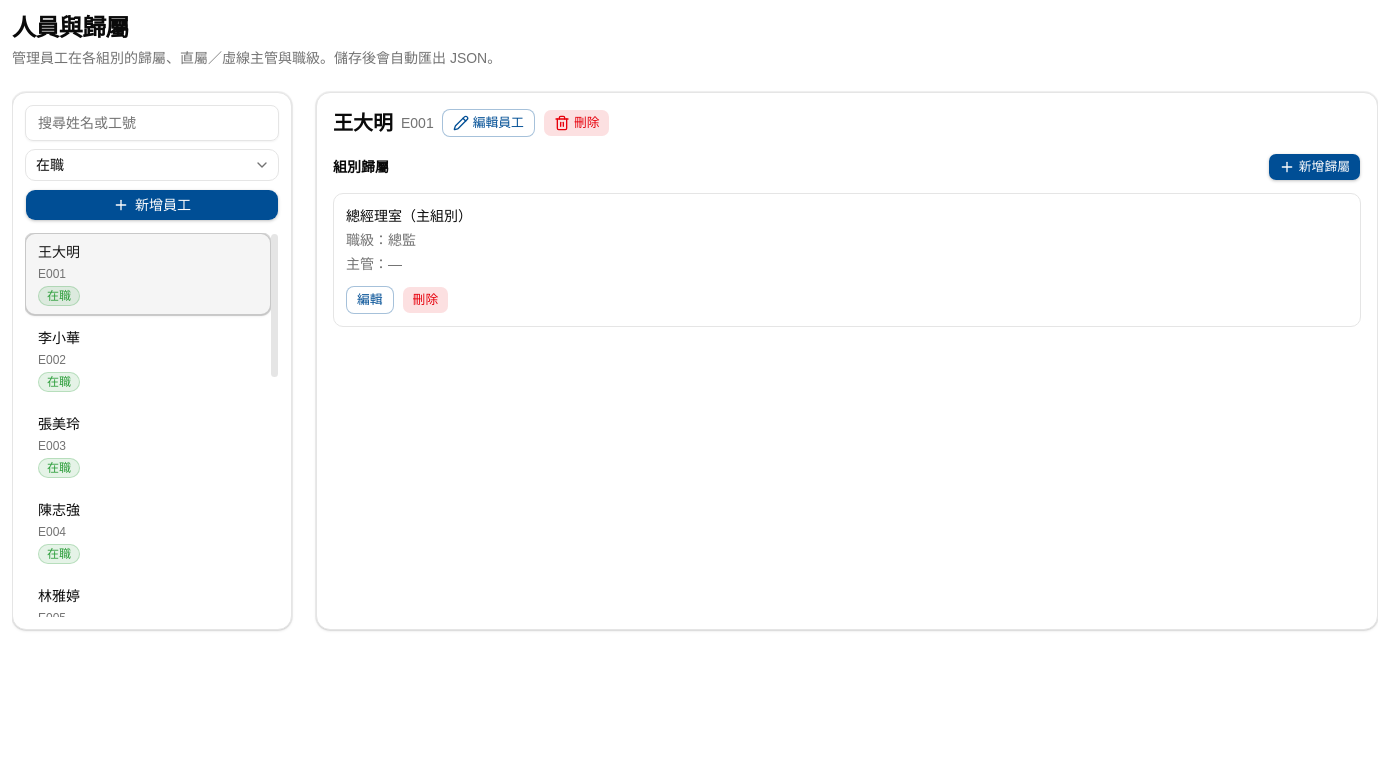
Test: PeoplePage 人員與歸屬 › 點擊「新增歸屬」會出現歸屬編輯卡片與儲存鈕
Click the button "新增歸屬" at (1314, 167), box [1268, 153, 1361, 181]
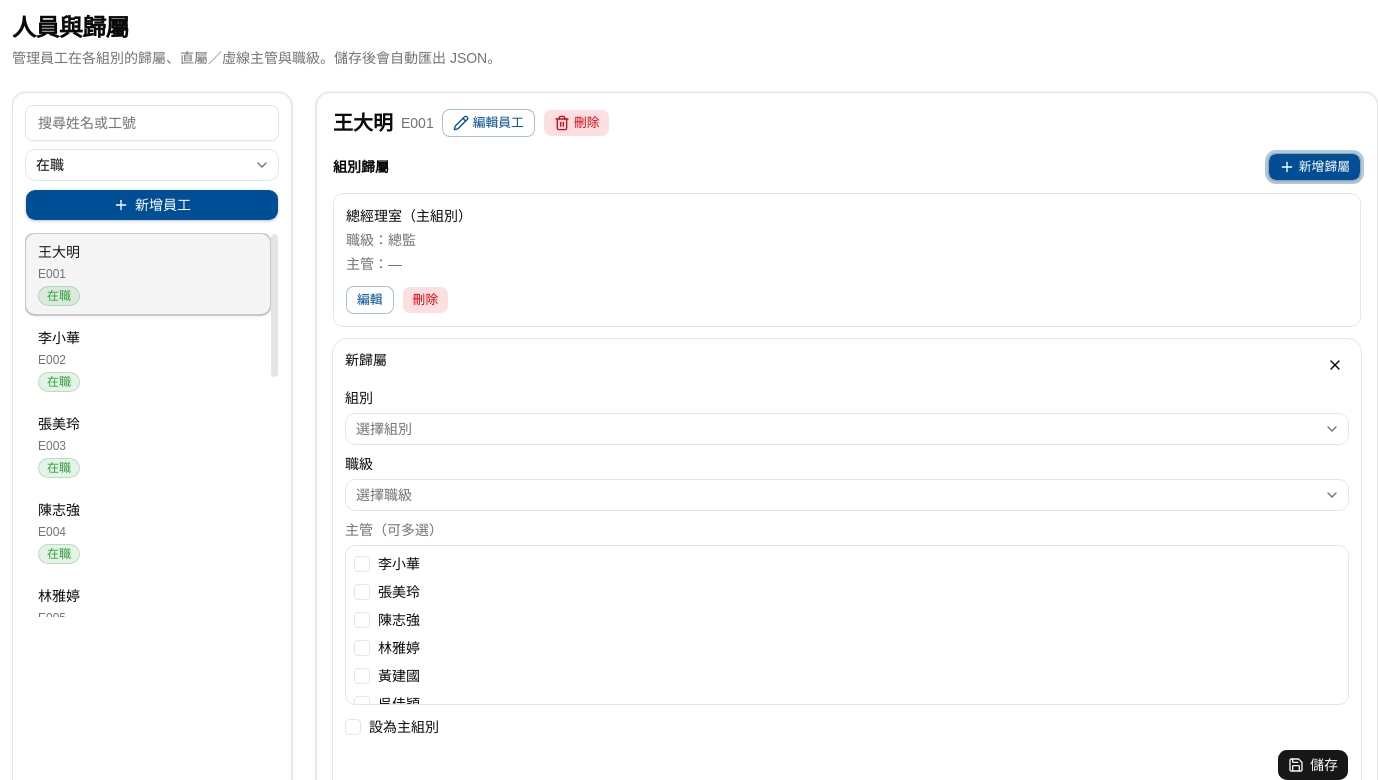
Check: the text "組別" is shown, box [345, 390, 373, 406]
Check: the text "職級" is shown, box [345, 456, 373, 472]
Check: the button "儲存" is shown, box [1277, 749, 1349, 779]
